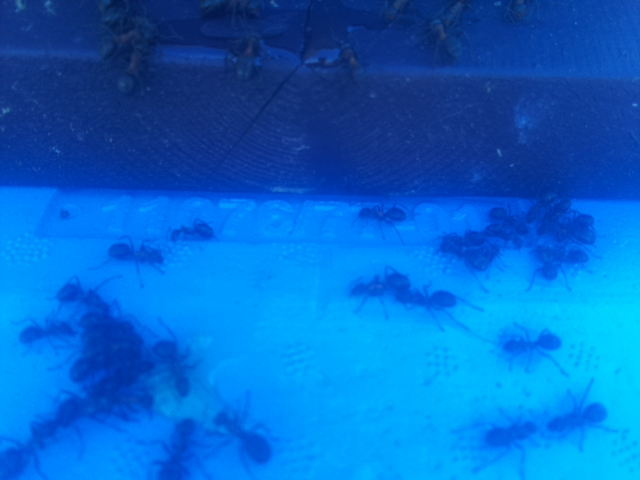ant: (106, 18, 164, 94)
